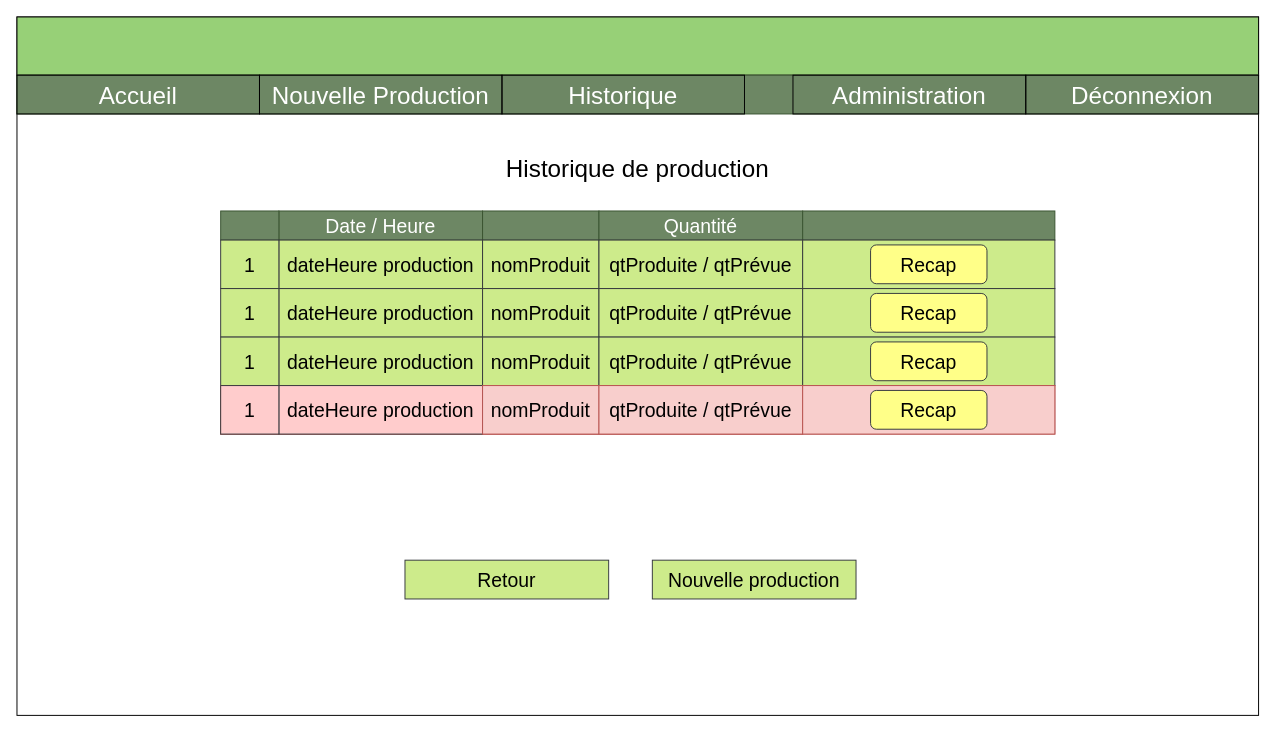
Image size: 1276x732. Some labels were removed from this diagram. Here are the shapes that lost their labels. From the top down, the box of each, then its label:
(16, 16, 1259, 75): Gestion de production
(220, 210, 279, 240): ID
(482, 210, 599, 240): Produit
(802, 210, 1055, 240): Action
